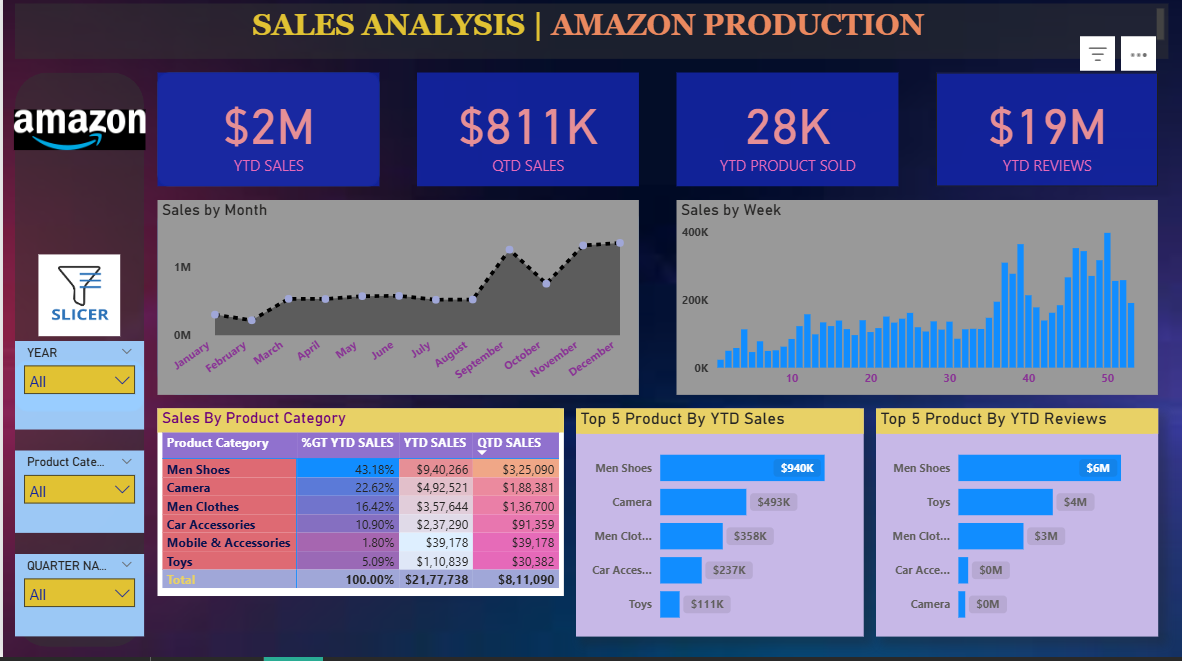

The dashboard page shown, as its layout file describes it:
{"tool":"powerbi","page":{"name":"Page 1","canvas":[1280,720],"ordinal":0},"visuals":[{"type":"textbox","box":[13,11.4,1250.8,60.2],"z":1000},{"type":"shape","box":[13,86.2,140,623],"z":2000},{"type":"shape","box":[167.5,86.2,240.7,123.6],"z":3000},{"type":"card","fields":{"Values":["Amazon_Data.YTD SALES"]},"box":[167.5,86.2,240.7,123.6],"z":4000},{"type":"card","fields":{"Values":["Amazon_Data.QTD SALES"]},"box":[448.9,86.2,240.7,123.6],"z":5000},{"type":"card","fields":{"Values":["Amazon_Data.YTD TOTALTRANSACTION"]},"box":[730.3,86.2,240.7,123.6],"z":6000},{"type":"card","fields":{"Values":["Amazon_Data.YTD REVIEWS"]},"box":[1011.7,86.2,240.7,123.6],"z":7000},{"type":"shape","box":[167.5,224.5,522.1,211.5],"z":8000},{"type":"areaChart","title":"Sales by Month","fields":{"Category":["Date Table.Month Name"],"Y":["Sum(Amazon_Data.Price(Dollar))"]},"box":[167.5,224.5,522.1,211.5],"z":9000},{"type":"clusteredColumnChart","title":"Sales by Week","fields":{"Category":["Date Table.WEEK NUMBER"],"Y":["Sum(Amazon_Data.Price(Dollar))"]},"box":[730.3,224.5,522.1,211.5],"z":10000},{"type":"barChart","title":"Top 5 Product By YTD Sales ","fields":{"Category":["Amazon_Data.Product Category"],"Y":["Amazon_Data.YTD SALES"]},"box":[621.3,450.6,312.3,247.2],"z":11000},{"type":"pivotTable","title":"Sales By Product Category ","fields":{"Rows":["Amazon_Data.Product Category"],"Values":["Amazon_Data.YTD SALES","Amazon_Data.YTD SALES1","Amazon_Data.QTD SALES"]},"box":[167.5,450.6,440.8,203.3],"z":12000},{"type":"barChart","title":"Top 5 Product By YTD Reviews","fields":{"Category":["Amazon_Data.Product Category"],"Y":["Amazon_Data.YTD REVIEWS"]},"box":[946.6,450.6,305.8,247.2],"z":12001},{"type":"slicer","fields":{"Values":["Amazon_Data.Product Category"]},"box":[13,496.1,139.9,89.5],"z":12002},{"type":"slicer","fields":{"Values":["Date Table.QUARTER NAME"]},"box":[13,608.3,139.9,89.5],"z":12003},{"type":"image","box":[6.5,53.7,152.9,188.7],"z":12005},{"type":"shape","box":[13,398.5,139.9,55.3],"z":12006},{"type":"slicer","fields":{"Values":["Date Table.YEAR"]},"box":[13,377.4,139.9,96],"z":12008},{"type":"image","box":[9.8,278.1,146,99.2],"z":12009}]}

Visuals, with their boxes in screenshot pixels (x1, y1, x2, y2), scaled from the page's 1280x720 canvas onto the 1182x661 screenshot:
textbox: [12,10,1167,66]
shape: [12,79,141,651]
shape: [155,79,377,193]
card - Amazon_Data.YTD SALES: [155,79,377,193]
card - Amazon_Data.QTD SALES: [415,79,637,193]
card - Amazon_Data.YTD TOTALTRANSACTION: [674,79,897,193]
card - Amazon_Data.YTD REVIEWS: [934,79,1157,193]
shape: [155,206,637,400]
"Sales by Month" areaChart: [155,206,637,400]
"Sales by Week" clusteredColumnChart: [674,206,1157,400]
"Top 5 Product By YTD Sales " barChart: [574,414,862,641]
"Sales By Product Category " pivotTable: [155,414,562,600]
"Top 5 Product By YTD Reviews" barChart: [874,414,1157,641]
slicer - Amazon_Data.Product Category: [12,455,141,538]
slicer - Date Table.QUARTER NAME: [12,558,141,641]
image: [6,49,147,223]
shape: [12,366,141,417]
slicer - Date Table.YEAR: [12,346,141,435]
image: [9,255,144,346]
